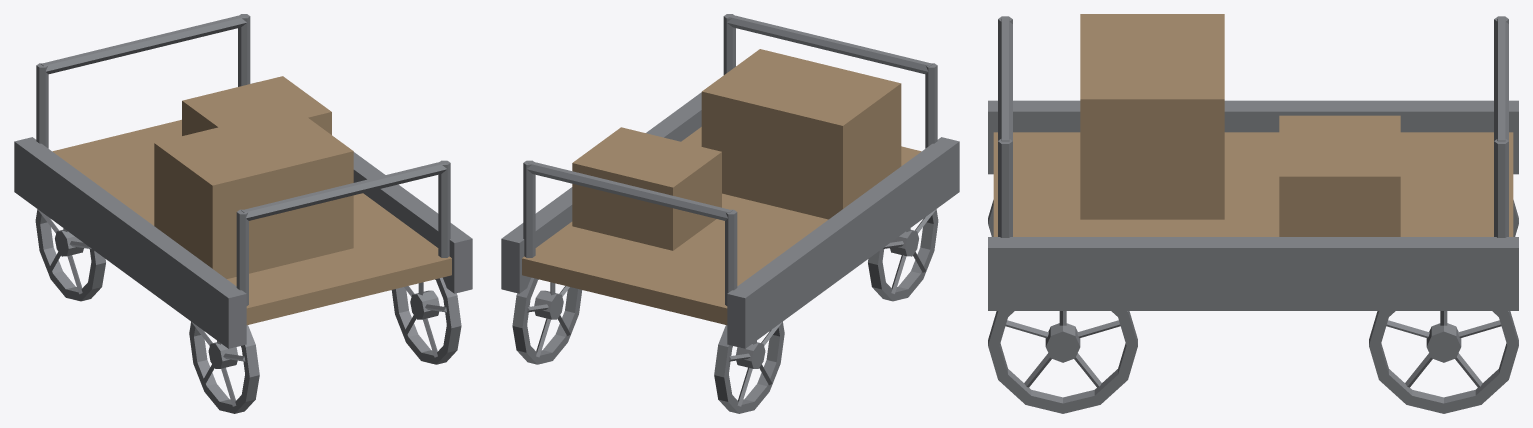
File: steam-era-railway-and-rolling-stock-parcels-trolley-fb4fc4f8.glb
3 renders of one model, left to right at view 1: azimuth 30°, elevation 25°; view 2: azimuth 150°, elevation 25°; view 3: azimuth 270°, elevation 25°, orthographic. The views are drawn at different scales.
Parts seen in each view (by area): view 1: parcels-trolley; view 2: parcels-trolley; view 3: parcels-trolley.
Part boxes in pixels (x1,y1,x2,y2): parcels-trolley: [14, 14, 472, 413]; parcels-trolley: [501, 14, 959, 413]; parcels-trolley: [988, 14, 1518, 413].
Bounding box in the file's own units: 1.21 × 1.04 × 1.84.
